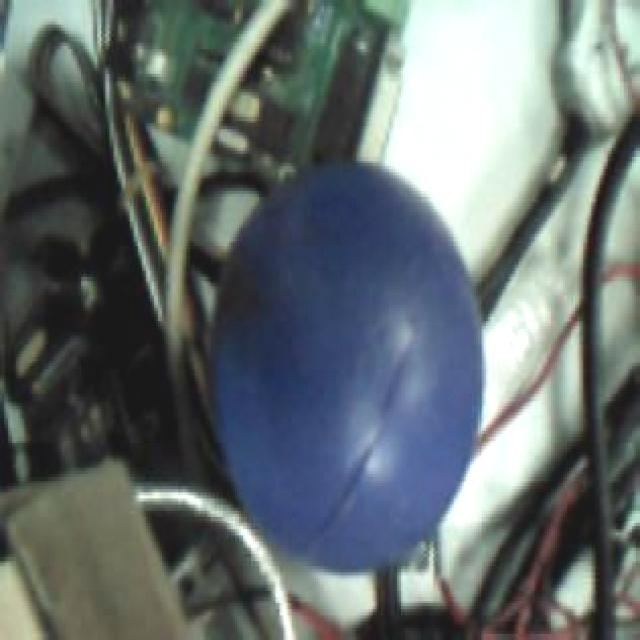BallPurple: (210, 163, 484, 576)
